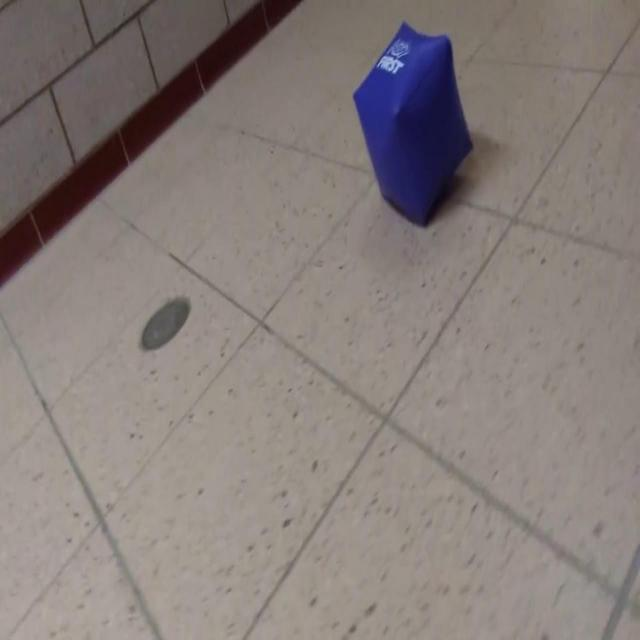frc_cube: (352, 22, 474, 230)
